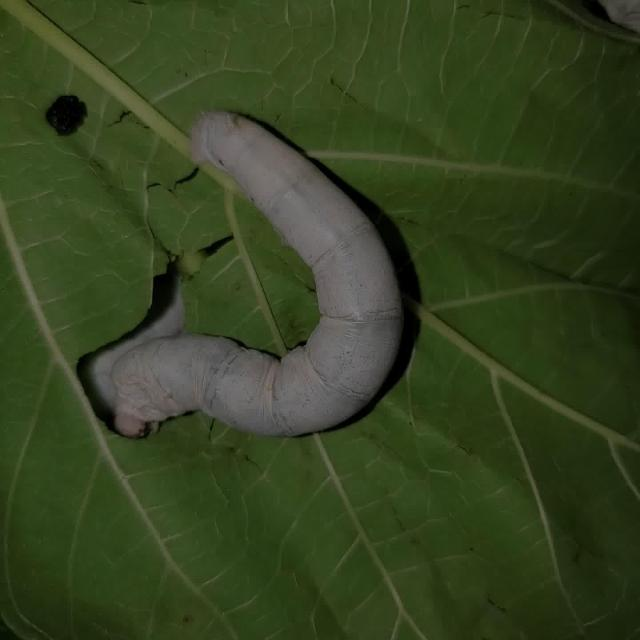Healthy: (64, 81, 438, 454)
